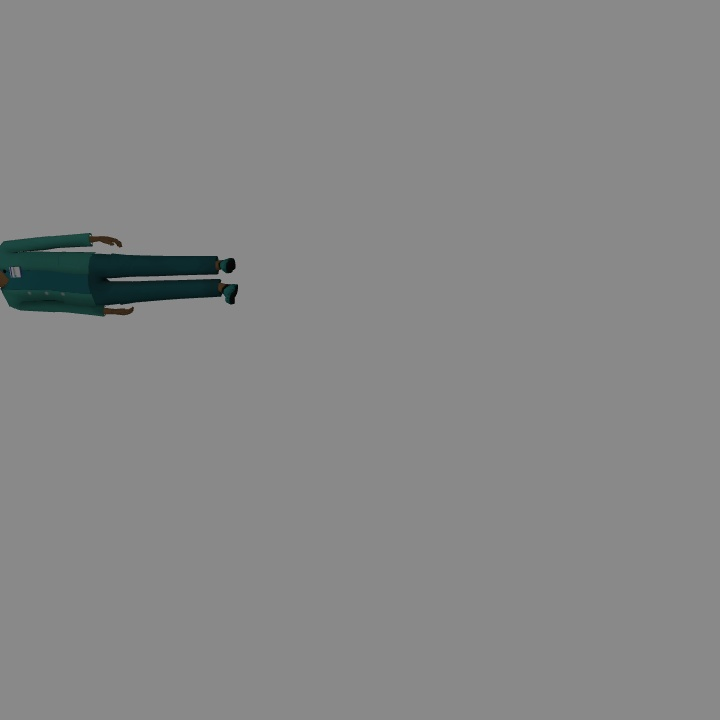victim: (1, 232, 239, 315)
